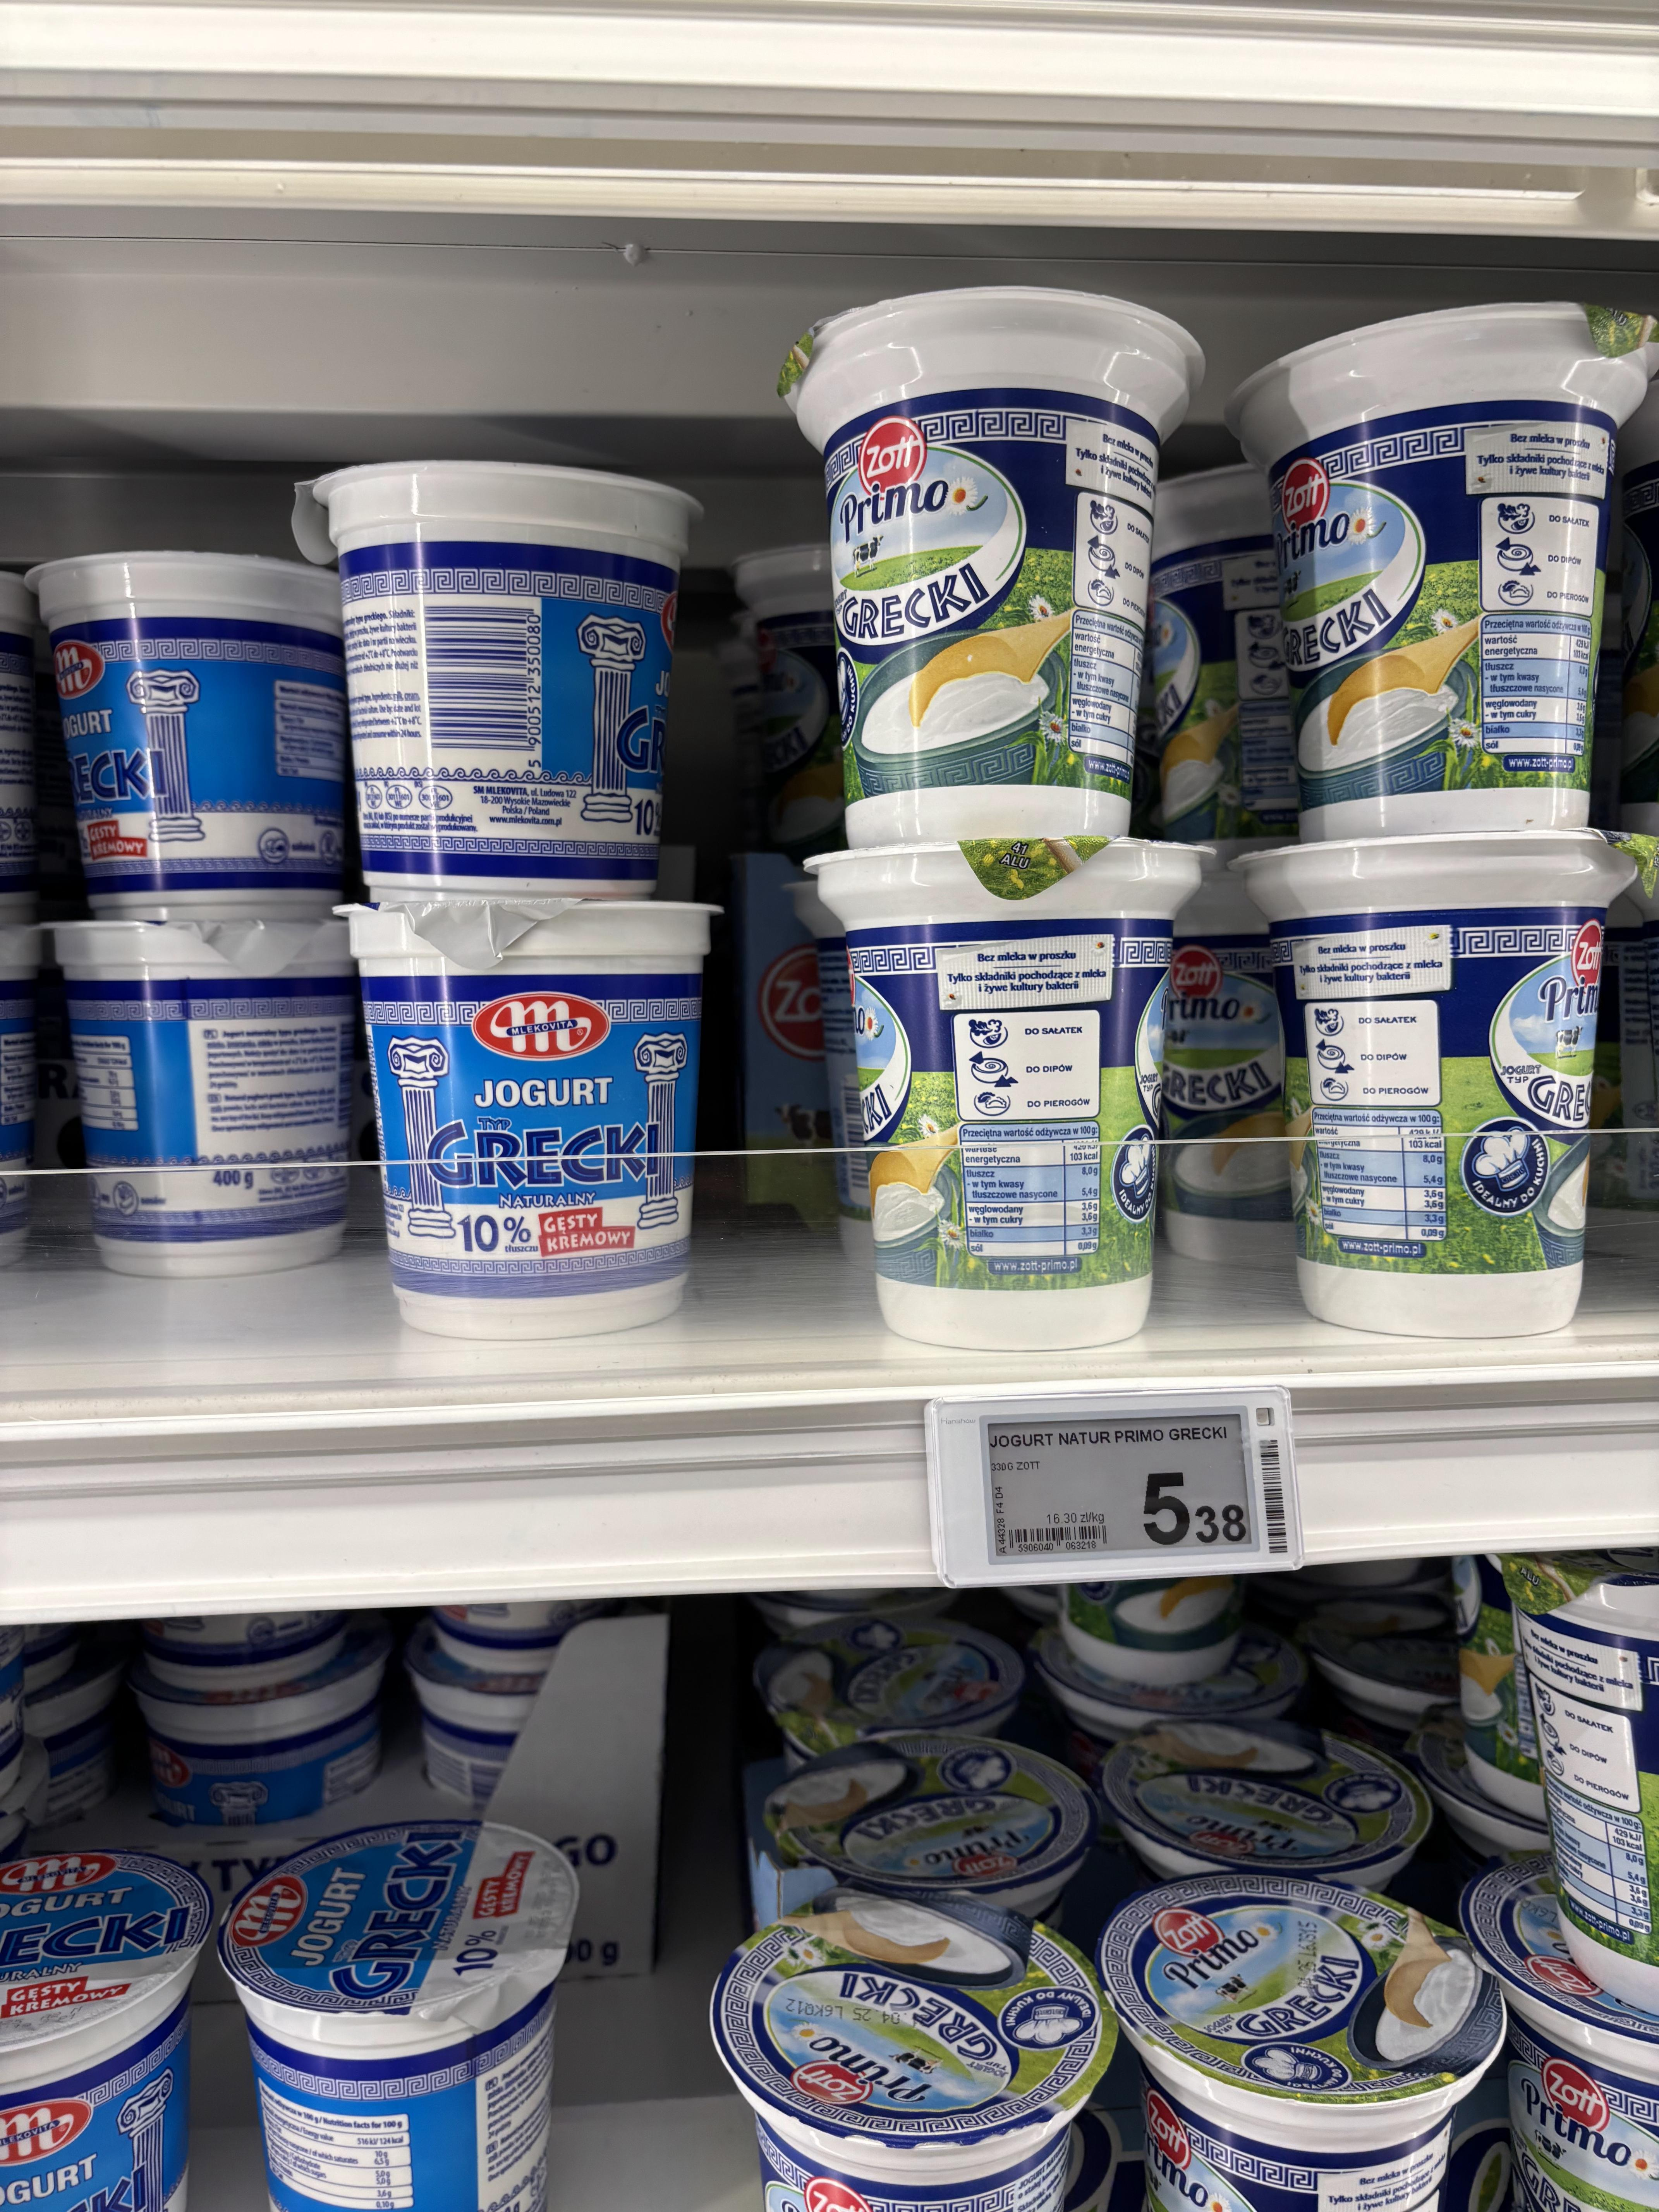Yogurt: (1218, 822, 1659, 1407), (1201, 314, 1659, 855), (751, 301, 1195, 833), (819, 850, 1255, 1364), (274, 451, 701, 904), (368, 881, 723, 1372), (206, 1838, 592, 2212), (61, 911, 392, 1310), (3, 533, 361, 899)
